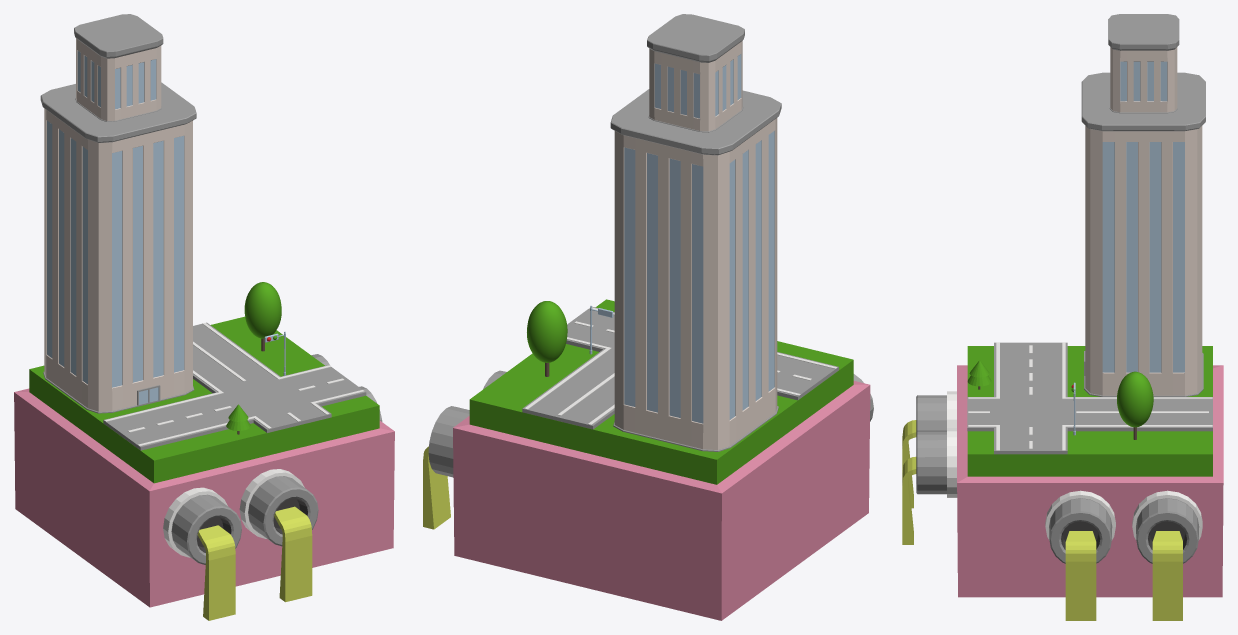
The model's file is Island_20.fbx.
3 views of the same model, side by side, from view 1: azimuth 30°, elevation 25°; view 2: azimuth 150°, elevation 25°; view 3: azimuth 270°, elevation 25° (orthographic). The views are drawn at different scales.
Visible parts, largest first — view 1: Isl_20_Building_1, Isl_20_Base, Isl_20_Intersection_1, Isl_20_Pipe_2, Isl_20_Pipe_1, Isl_20_Tree_2; view 2: Isl_20_Base, Isl_20_Building_1, Isl_20_Intersection_1, Isl_20_Pipe_4, Isl_20_Tree_2; view 3: Isl_20_Building_1, Isl_20_Base, Isl_20_Intersection_1, Isl_20_Pipe_3, Isl_20_Pipe_4, Isl_20_Pipe_2, Isl_20_Pipe_1, Isl_20_Tree_2.
Boxes of the visible parts, left/top/right/bottom form: Isl_20_Building_1: left=40, top=14, right=196, bottom=413; Isl_20_Base: left=14, top=316, right=394, bottom=607; Isl_20_Intersection_1: left=103, top=322, right=366, bottom=450; Isl_20_Pipe_2: left=239, top=469, right=318, bottom=602; Isl_20_Pipe_1: left=163, top=487, right=241, bottom=620; Isl_20_Tree_2: left=244, top=282, right=281, bottom=351; Isl_20_Base: left=453, top=299, right=870, bottom=620; Isl_20_Building_1: left=610, top=14, right=781, bottom=451; Isl_20_Intersection_1: left=522, top=306, right=838, bottom=429; Isl_20_Pipe_4: left=423, top=406, right=469, bottom=529; Isl_20_Tree_2: left=527, top=301, right=567, bottom=376; Isl_20_Building_1: left=1081, top=14, right=1205, bottom=396; Isl_20_Base: left=957, top=346, right=1223, bottom=597; Isl_20_Intersection_1: left=967, top=342, right=1212, bottom=454; Isl_20_Pipe_3: left=1045, top=490, right=1115, bottom=620; Isl_20_Pipe_4: left=1132, top=490, right=1202, bottom=620; Isl_20_Pipe_2: left=902, top=428, right=957, bottom=544; Isl_20_Pipe_1: left=902, top=391, right=956, bottom=508; Isl_20_Tree_2: left=1117, top=371, right=1153, bottom=439.
Size of the model in its own units: 2243 by 2163 by 3584.
